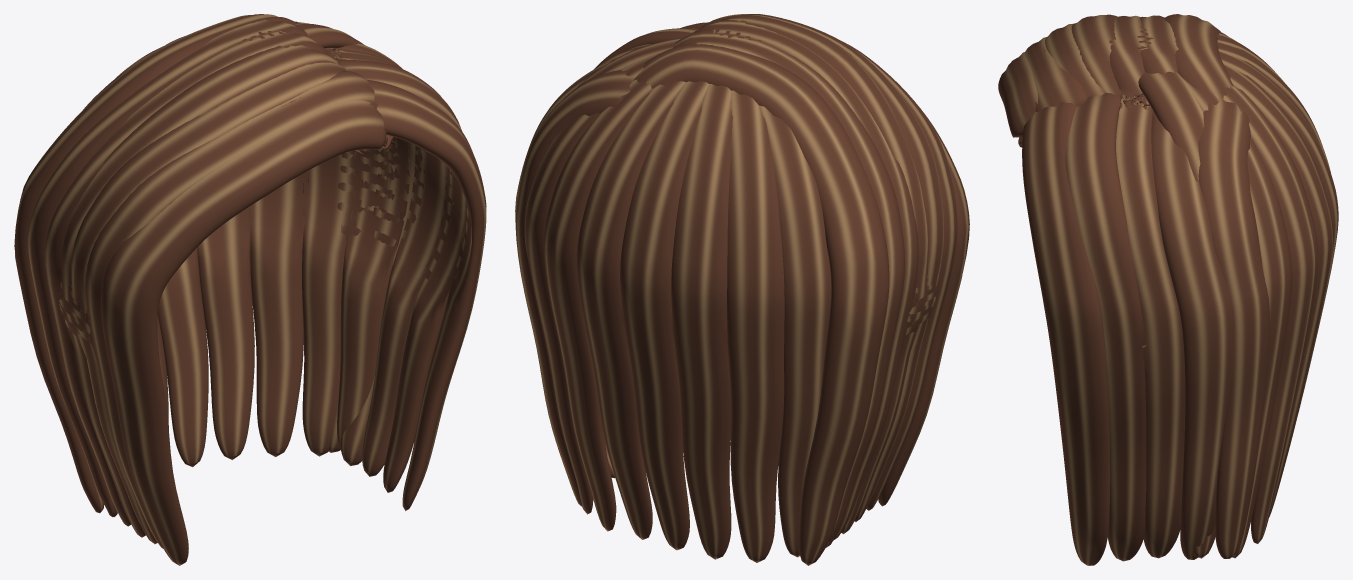
Rendered from Highlights-05361faa6984252-hair.glb.
The picture shows the model from 3 angles, left to right: view 1: azimuth 30°, elevation 25°; view 2: azimuth 150°, elevation 25°; view 3: azimuth 270°, elevation 25°; orthographic projection.
Visible parts, largest first — view 1: 226 hair / Hair / sculpted 0.001, 226 hair / Hair / sculpted 1.002, 226 hair / Hair / sculpted 2.001; view 2: 226 hair / Hair / sculpted 0.001, 226 hair / Hair / sculpted 2.001, 226 hair / Hair / sculpted 1.002; view 3: 226 hair / Hair / sculpted 1.002, 226 hair / Hair / sculpted 2.001, 226 hair / Hair / sculpted 0.001.
Boxes of the visible parts, x1,y1,x2,y2 form: 226 hair / Hair / sculpted 0.001: (14,14,453,565); 226 hair / Hair / sculpted 1.002: (44,23,486,548); 226 hair / Hair / sculpted 2.001: (28,19,469,544); 226 hair / Hair / sculpted 0.001: (543,14,969,565); 226 hair / Hair / sculpted 2.001: (515,14,943,557); 226 hair / Hair / sculpted 1.002: (515,14,957,562); 226 hair / Hair / sculpted 1.002: (1022,15,1333,565); 226 hair / Hair / sculpted 2.001: (1043,15,1338,561); 226 hair / Hair / sculpted 0.001: (998,14,1330,558).
Bounding box in the file's own units: 1.02 × 1.2 × 0.7803.
Materials: 4 (4 with a texture image).
